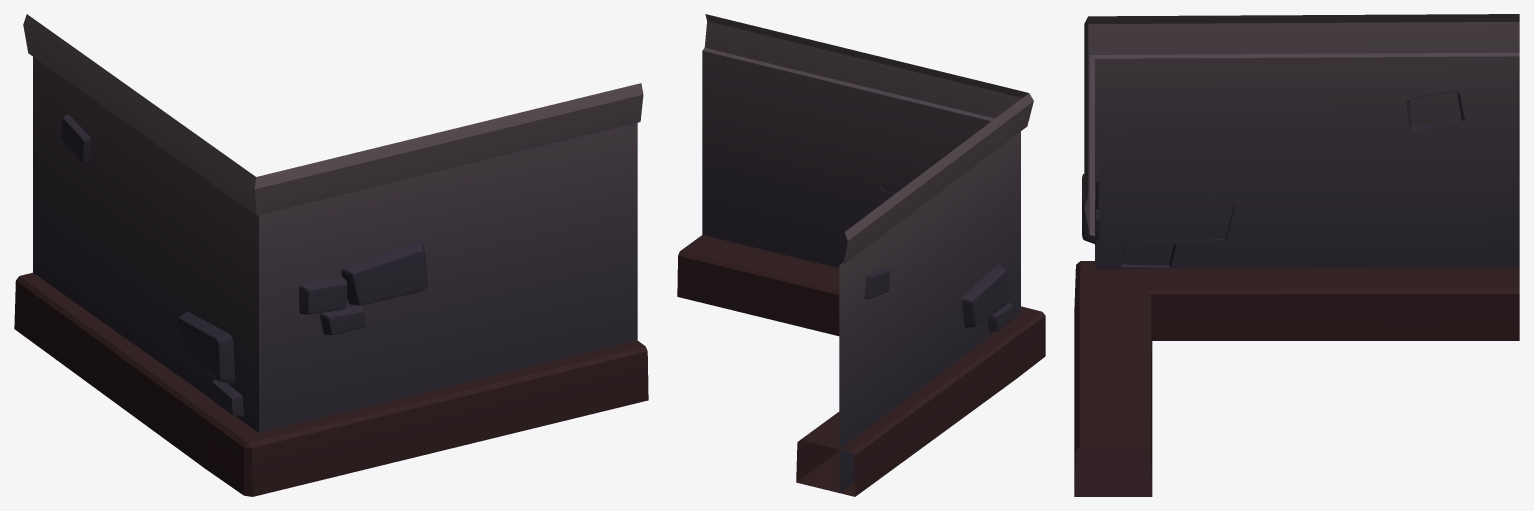
Rendered from SM_Corner_Piece_Out.fbx.
3 views of the same model, side by side, from view 1: azimuth 30°, elevation 25°; view 2: azimuth 150°, elevation 25°; view 3: azimuth 270°, elevation 25° (orthographic). The views are drawn at different scales.
Visible parts, largest first — view 1: SM_CornerPiece_Out; view 2: SM_CornerPiece_Out; view 3: SM_CornerPiece_Out.
Part boxes in pixels (bbox=[...]): SM_CornerPiece_Out: bbox=[14, 14, 648, 496]; SM_CornerPiece_Out: bbox=[677, 14, 1045, 496]; SM_CornerPiece_Out: bbox=[1074, 14, 1519, 496].
Size of the model in its own units: 201 by 149 by 200.
Materials: 1 (1 with a texture image).
